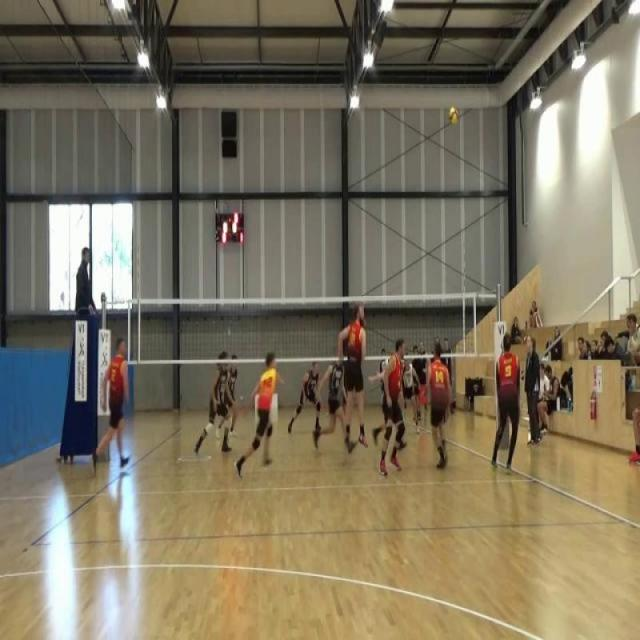volleyball: (448, 105, 460, 126)
